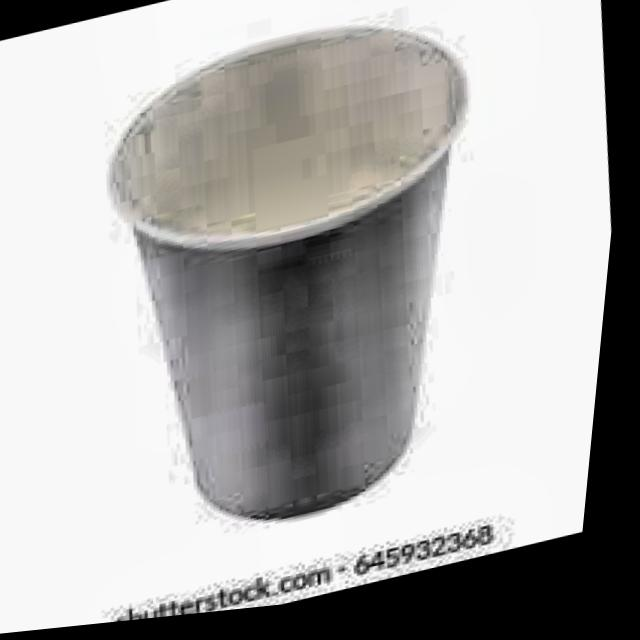Cup: (55, 0, 540, 580)
